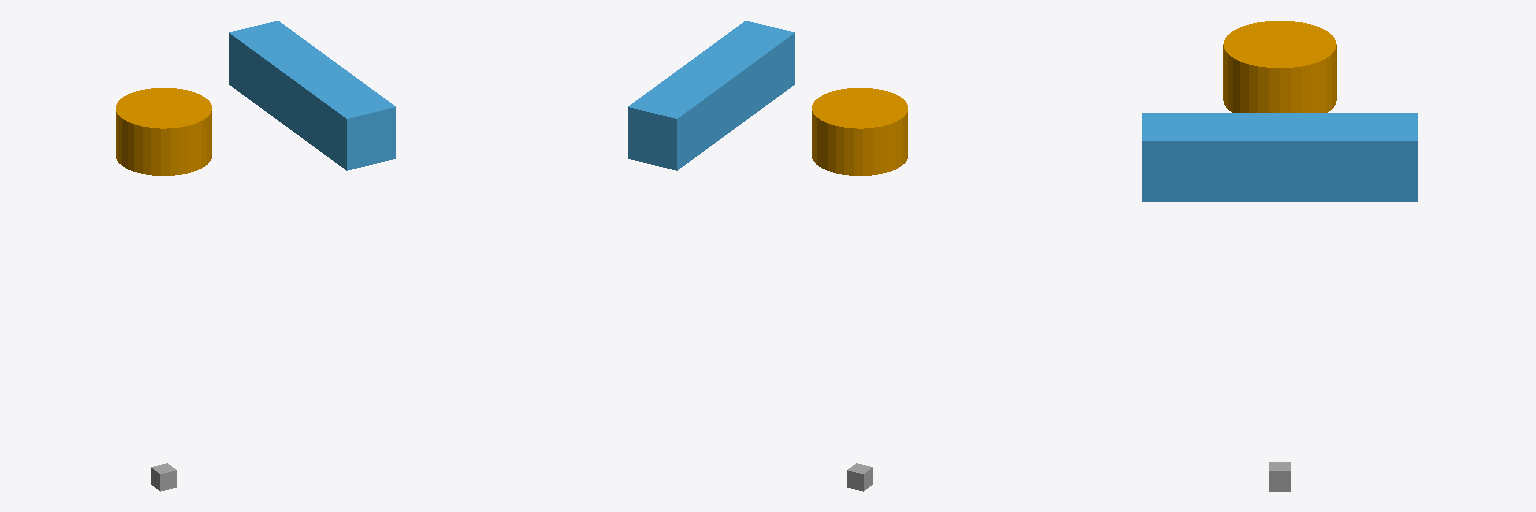
The robot description file, URDF, robot "scout_v2":
<?xml version="1.0" ?>
<!-- =================================================================================== -->
<!-- |    This document was autogenerated by xacro from scout_v2.xacro                 | -->
<!-- |    EDITING THIS FILE BY HAND IS NOT RECOMMENDED                                 | -->
<!-- =================================================================================== -->
<robot name="scout_v2">
  <!-- Base link -->
  <link name="base_link">
    <visual>
      <origin rpy="0 0 0" xyz="0 0 0"/>
      <geometry>
        <mesh filename="file://[local-path]/ros2_ws/install/scout_description/share/scout_description/meshes/scout_v2/base_link.dae"/>
      </geometry>
    </visual>
    <collision>
      <origin rpy="0 0 0" xyz="0 0 0.008"/>
      <geometry>
        <box size="0.925 0.38 0.21"/>
      </geometry>
    </collision>
    <collision>
      <origin rpy="0 0 0" xyz="0 0 0.034999999999999996"/>
      <geometry>
        <box size="0.15416666666666667 0.627 0.06999999999999999"/>
      </geometry>
    </collision>
  </link>
  <link name="base_footprint"/>
  <joint name="base_footprint_joint" type="fixed">
    <origin rpy="0 0 0" xyz="0 0 -0.23479"/>
    <parent link="base_link"/>
    <child link="base_footprint"/>
  </joint>
  <link name="inertial_link">
    <inertial>
      <mass value="40"/>
      <origin xyz="0.0 0.0 0.0"/>
      <inertia ixx="2.288641" ixy="0" ixz="0" iyy="5.103976" iyz="0" izz="3.431465"/>
    </inertial>
  </link>
  <joint name="inertial_joint" type="fixed">
    <origin rpy="0 0 0" xyz="0 0 0"/>
    <parent link="base_link"/>
    <child link="inertial_link"/>
  </joint>
  <link name="front_right_wheel_link">
    <inertial>
      <mass value="3"/>
      <origin xyz="0 0 0"/>
      <inertia ixx="0.7171" ixy="0" ixz="0" iyy="0.1361" iyz="0" izz="0.7171"/>
    </inertial>
    <visual>
      <origin rpy="0 0 0" xyz="0 0 0"/>
      <geometry>
        <mesh filename="file://[local-path]/ros2_ws/install/scout_description/share/scout_description/meshes/scout_v2/wheel_type1.dae"/>
      </geometry>
    </visual>
    <collision>
      <origin rpy="1.570795 0 0" xyz="0 0 0"/>
      <geometry>
        <cylinder length="0.11653" radius="0.16459"/>
      </geometry>
    </collision>
  </link>
  <joint name="front_right_wheel" type="continuous">
    <parent link="base_link"/>
    <child link="front_right_wheel_link"/>
    <origin rpy="3.14 0 0" xyz="0.249 -0.29153 -0.0702"/>
    <axis rpy="0 0 0" xyz="0 -1 0"/>
  </joint>
  <link name="front_left_wheel_link">
    <inertial>
      <mass value="3"/>
      <origin xyz="0 0 0"/>
      <inertia ixx="0.7171" ixy="0" ixz="0" iyy="0.1361" iyz="0" izz="0.7171"/>
    </inertial>
    <visual>
      <origin rpy="0 0 0" xyz="0 0 0"/>
      <geometry>
        <mesh filename="file://[local-path]/ros2_ws/install/scout_description/share/scout_description/meshes/scout_v2/wheel_type2.dae"/>
      </geometry>
    </visual>
    <collision>
      <origin rpy="1.570795 0 0" xyz="0 0 0"/>
      <geometry>
        <cylinder length="0.11653" radius="0.16459"/>
      </geometry>
    </collision>
  </link>
  <joint name="front_left_wheel" type="continuous">
    <parent link="base_link"/>
    <child link="front_left_wheel_link"/>
    <origin rpy="0 0 0" xyz="0.249 0.29153 -0.0702"/>
    <axis rpy="0 0 0" xyz="0 -1 0"/>
  </joint>
  <link name="rear_left_wheel_link">
    <inertial>
      <mass value="3"/>
      <origin xyz="0 0 0"/>
      <inertia ixx="0.7171" ixy="0" ixz="0" iyy="0.1361" iyz="0" izz="0.7171"/>
    </inertial>
    <visual>
      <origin rpy="0 0 0" xyz="0 0 0"/>
      <geometry>
        <mesh filename="file://[local-path]/ros2_ws/install/scout_description/share/scout_description/meshes/scout_v2/wheel_type1.dae"/>
      </geometry>
    </visual>
    <collision>
      <origin rpy="1.570795 0 0" xyz="0 0 0"/>
      <geometry>
        <cylinder length="0.11653" radius="0.16459"/>
      </geometry>
    </collision>
  </link>
  <joint name="rear_left_wheel" type="continuous">
    <parent link="base_link"/>
    <child link="rear_left_wheel_link"/>
    <origin rpy="0 0 0" xyz="-0.249 0.29153 -0.0702"/>
    <axis rpy="0 0 0" xyz="0 -1 0"/>
  </joint>
  <link name="rear_right_wheel_link">
    <inertial>
      <mass value="3"/>
      <origin xyz="0 0 0"/>
      <inertia ixx="0.7171" ixy="0" ixz="0" iyy="0.1361" iyz="0" izz="0.7171"/>
    </inertial>
    <visual>
      <origin rpy="0 0 0" xyz="0 0 0"/>
      <geometry>
        <mesh filename="file://[local-path]/ros2_ws/install/scout_description/share/scout_description/meshes/scout_v2/wheel_type2.dae"/>
      </geometry>
    </visual>
    <collision>
      <origin rpy="1.570795 0 0" xyz="0 0 0"/>
      <geometry>
        <cylinder length="0.11653" radius="0.16459"/>
      </geometry>
    </collision>
  </link>
  <joint name="rear_right_wheel" type="continuous">
    <parent link="base_link"/>
    <child link="rear_right_wheel_link"/>
    <origin rpy="3.14 0 0" xyz="-0.249 -0.29153 -0.0702"/>
    <axis rpy="0 0 0" xyz="0 -1 0"/>
  </joint>
  <!-- IMU -->
  <link name="imu_link">
    <visual>
      <geometry>
        <box size="0.01 0.01 0.01"/>
      </geometry>
    </visual>
    <collision>
      <geometry>
        <box size="0.01 0.01 0.01"/>
      </geometry>
    </collision>
    <inertial>
      <origin rpy="1.5707963267948966 0 1.5707963267948966" xyz="0 0 0"/>
      <mass value="0.1"/>
      <inertia ixx="0.0001666666666666667" ixy="0.0" ixz="0.0" iyy="0.0001666666666666667" iyz="0.0" izz="0.0001666666666666667"/>
    </inertial>
  </link>
  <joint name="imu_joint" type="fixed">
    <parent link="base_link"/>
    <child link="imu_link"/>
    <origin xyz="0.0 0 0.01"/>
  </joint>
  <gazebo reference="imu_link">
    <sensor name="imu_sensor" type="imu">
      <plugin filename="libgazebo_ros_imu_sensor.so" name="imu_plugin">
        <ros>
          <namespace>/demo</namespace>
          <remapping>~/out:=imu</remapping>
        </ros>
        <initial_orientation_as_reference>false</initial_orientation_as_reference>
      </plugin>
      <always_on>true</always_on>
      <update_rate>100</update_rate>
      <visualize>true</visualize>
      <imu>
        <angular_velocity>
          <x>
            <noise type="gaussian">
              <mean>0.0</mean>
              <stddev>2e-4</stddev>
              <bias_mean>0.0000075</bias_mean>
              <bias_stddev>0.0000008</bias_stddev>
            </noise>
          </x>
          <y>
            <noise type="gaussian">
              <mean>0.0</mean>
              <stddev>2e-4</stddev>
              <bias_mean>0.0000075</bias_mean>
              <bias_stddev>0.0000008</bias_stddev>
            </noise>
          </y>
          <z>
            <noise type="gaussian">
              <mean>0.0</mean>
              <stddev>2e-4</stddev>
              <bias_mean>0.0000075</bias_mean>
              <bias_stddev>0.0000008</bias_stddev>
            </noise>
          </z>
        </angular_velocity>
        <linear_acceleration>
          <x>
            <noise type="gaussian">
              <mean>0.0</mean>
              <stddev>1.7e-2</stddev>
              <bias_mean>0.1</bias_mean>
              <bias_stddev>0.001</bias_stddev>
            </noise>
          </x>
          <y>
            <noise type="gaussian">
              <mean>0.0</mean>
              <stddev>1.7e-2</stddev>
              <bias_mean>0.1</bias_mean>
              <bias_stddev>0.001</bias_stddev>
            </noise>
          </y>
          <z>
            <noise type="gaussian">
              <mean>0.0</mean>
              <stddev>1.7e-2</stddev>
              <bias_mean>0.1</bias_mean>
              <bias_stddev>0.001</bias_stddev>
            </noise>
          </z>
        </linear_acceleration>
      </imu>
    </sensor>
  </gazebo>
  <!-- Diff Drive -->
  <gazebo>
    <plugin filename="libgazebo_ros_diff_drive.so" name="diff_drive">
      <ros>
        <namespace>/demo</namespace>
      </ros>
      <num_wheel_pairs>2</num_wheel_pairs>
      <!--back wheels -->
      <left_joint>front_left_wheel</left_joint>
      <right_joint>front_right_wheel</right_joint>
      <!-- front wheels -->
      <left_joint>rear_left_wheel</left_joint>
      <right_joint>rear_right_wheel</right_joint>
      <!-- kinematics -->
      <wheel_separation>0.996</wheel_separation>
      <wheel_diameter>0.32918</wheel_diameter>
      <wheel_separation>0.996</wheel_separation>
      <wheel_diameter>0.32918</wheel_diameter>
      <!-- limits -->
      <max_wheel_torque>20</max_wheel_torque>
      <max_wheel_acceleration>1.0</max_wheel_acceleration>
      <updateRate>100</updateRate>
      <!-- output -->
      <publish_odom>true</publish_odom>
      <publish_odom_tf>false</publish_odom_tf>
      <publish_wheel_tf>true</publish_wheel_tf>
      <odometry_frame>odom</odometry_frame>
      <robot_base_frame>base_link</robot_base_frame>
    </plugin>
  </gazebo>
  <!-- LIDAR -->
  <link name="lidar_link">
    <inertial>
      <origin rpy="0 0 0" xyz="0 0 0"/>
      <mass value="0.125"/>
      <inertia ixx="0.001" ixy="0" ixz="0" iyy="0.001" iyz="0" izz="0.001"/>
    </inertial>
    <collision>
      <origin rpy="0 0 0" xyz="0 0 0"/>
      <geometry>
        <cylinder length="0.0275" radius="0.0254"/>
      </geometry>
    </collision>
    <visual>
      <origin rpy="0 0 0" xyz="0 0 0"/>
      <geometry>
        <cylinder length="0.0275" radius="0.0254"/>
      </geometry>
    </visual>
  </link>
  <joint name="lidar_joint" type="fixed">
    <parent link="base_link"/>
    <child link="lidar_link"/>
    <origin rpy="0 0 0" xyz="0 0 0.21"/>
  </joint>
  <gazebo reference="lidar_link">
    <sensor name="lidar" type="ray">
      <always_on>true</always_on>
      <visualize>false</visualize>
      <update_rate>5</update_rate>
      <ray>
        <scan>
          <horizontal>
            <samples>360</samples>
            <resolution>1.000000</resolution>
            <min_angle>0.000000</min_angle>
            <max_angle>6.280000</max_angle>
          </horizontal>
        </scan>
        <range>
          <min>0.120000</min>
          <max>3.5</max>
          <resolution>0.015000</resolution>
        </range>
        <noise>
          <type>gaussian</type>
          <mean>0.0</mean>
          <stddev>0.01</stddev>
        </noise>
      </ray>
      <plugin filename="libgazebo_ros_ray_sensor.so" name="scan">
        <ros>
          <remapping>~/out:=scan</remapping>
        </ros>
        <output_type>sensor_msgs/LaserScan</output_type>
        <frame_name>lidar_link</frame_name>
      </plugin>
    </sensor>
  </gazebo>
  <!-- Camera/Deph Sensor -->
  <link name="camera_link">
    <visual>
      <origin rpy="0 0 0" xyz="0 0 0"/>
      <geometry>
        <box size="0.030 0.124 0.030"/>
      </geometry>
    </visual>
    <collision>
      <origin rpy="0 0 0" xyz="0 0 0"/>
      <geometry>
        <box size="0.030 0.124 0.030"/>
      </geometry>
    </collision>
    <inertial>
      <origin rpy="0 0 0" xyz="0 0 0"/>
      <mass value="0.135"/>
      <inertia ixx="0.00018310499999999998" ixy="0.0" ixz="0.0" iyy="2.0249999999999998e-05" iyz="0.0" izz="0.00018310499999999998"/>
    </inertial>
  </link>
  <joint name="camera_joint" type="fixed">
    <parent link="base_link"/>
    <child link="camera_link"/>
    <origin rpy="0 0 0" xyz="0.09 0 0.21"/>
  </joint>
  <link name="camera_depth_frame"/>
  <joint name="camera_depth_joint" type="fixed">
    <origin rpy="-1.5707963267948966 0 -1.5707963267948966" xyz="0 0 0"/>
    <parent link="camera_link"/>
    <child link="camera_depth_frame"/>
  </joint>
  <gazebo reference="camera_link">
    <sensor name="depth_camera" type="depth">
      <visualize>true</visualize>
      <update_rate>30.0</update_rate>
      <camera name="camera">
        <horizontal_fov>1.50098</horizontal_fov>
        <image>
          <width>640</width>
          <height>480</height>
          <format>R8G8B8</format>
        </image>
        <clip>
          <near>0.05</near>
          <far>3</far>
        </clip>
      </camera>
      <plugin filename="libgazebo_ros_camera.so" name="depth_camera_controller">
        <baseline>0.2</baseline>
        <alwaysOn>true</alwaysOn>
        <updateRate>0.0</updateRate>
        <frame_name>camera_depth_frame</frame_name>
        <pointCloudCutoff>0.5</pointCloudCutoff>
        <pointCloudCutoffMax>3.0</pointCloudCutoffMax>
        <distortionK1>0</distortionK1>
        <distortionK2>0</distortionK2>
        <distortionK3>0</distortionK3>
        <distortionT1>0</distortionT1>
        <distortionT2>0</distortionT2>
        <CxPrime>0</CxPrime>
        <Cx>0</Cx>
        <Cy>0</Cy>
        <focalLength>0</focalLength>
        <hackBaseline>0</hackBaseline>
      </plugin>
    </sensor>
  </gazebo>
</robot>

--- Facts derived from the render (not from the file) ---
Views: 3 orthographic renders of the robot side by side, from view 1: azimuth 30°, elevation 25°; view 2: azimuth 150°, elevation 25°; view 3: azimuth 270°, elevation 25°.
Robot: scout_v2 — 11 links, 10 joints (4 continuous, 6 fixed); root link base_link; default pose: every joint at zero.
Links seen in each view (by area): view 1: camera_link, lidar_link, imu_link; view 2: camera_link, lidar_link, imu_link; view 3: camera_link, lidar_link, imu_link.
Boxes of the visible links, x1,y1,x2,y2 form: camera_link: [229, 21, 395, 170]; lidar_link: [116, 88, 211, 175]; imu_link: [151, 463, 176, 491]; camera_link: [628, 21, 794, 170]; lidar_link: [812, 88, 907, 175]; imu_link: [847, 463, 872, 491]; camera_link: [1142, 113, 1417, 201]; lidar_link: [1223, 21, 1336, 112]; imu_link: [1269, 462, 1290, 491].
Bounding box of the posed robot: 0.1304 × 0.124 × 0.22 m (x, y, z).
Geometry: only primitive shapes (box / cylinder / sphere) drawn; not drawn: 5 mesh visuals (reference in a form the renderer does not follow).